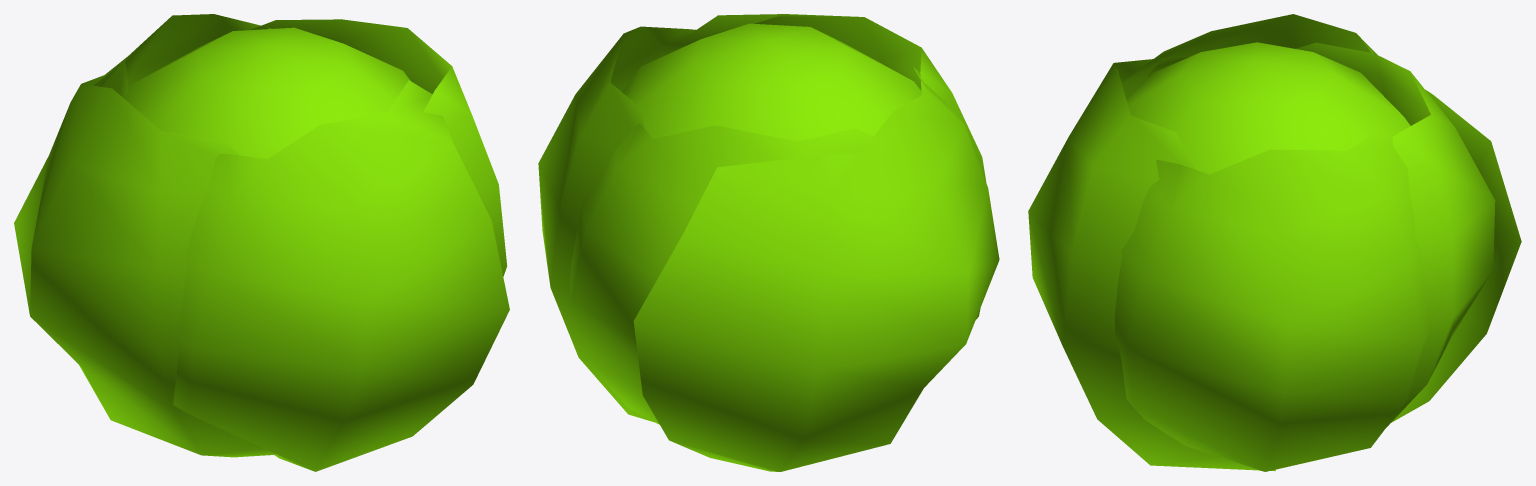
File: Cabbage_001.glb
3 renders of one model, left to right at view 1: azimuth 30°, elevation 25°; view 2: azimuth 150°, elevation 25°; view 3: azimuth 270°, elevation 25°, orthographic. The views are drawn at different scales.
Visible parts, largest first — view 1: Cabbage.001; view 2: Cabbage.001; view 3: Cabbage.001.
Part boxes in pixels (x1,y1,x2,y2): Cabbage.001: (14,14,509,471); Cabbage.001: (538,14,999,471); Cabbage.001: (1028,14,1521,471).
Bounding box in the file's own units: 0.2987 × 0.2565 × 0.2973.
